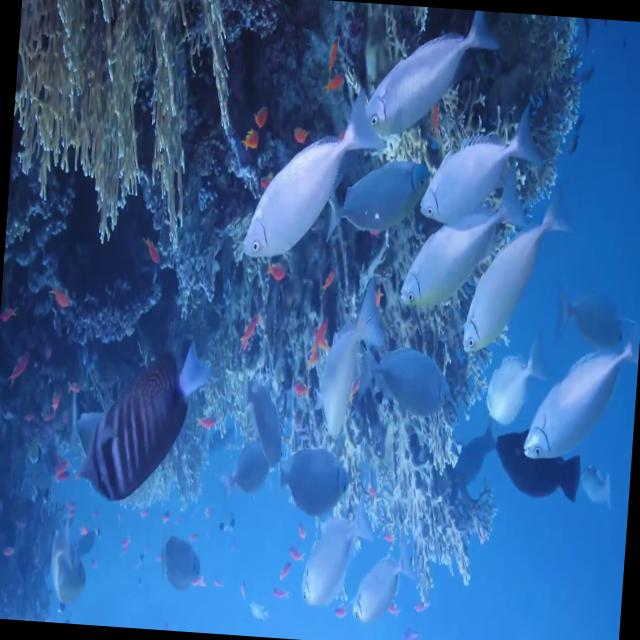fish: (242, 95, 376, 265), (76, 340, 208, 510), (402, 168, 520, 314), (360, 13, 493, 140), (462, 195, 564, 360), (416, 106, 536, 232), (520, 334, 632, 466), (320, 284, 386, 439), (323, 154, 429, 248), (354, 335, 461, 417), (297, 500, 373, 614), (488, 431, 583, 500), (278, 441, 352, 520), (482, 340, 548, 428), (348, 551, 409, 626)
